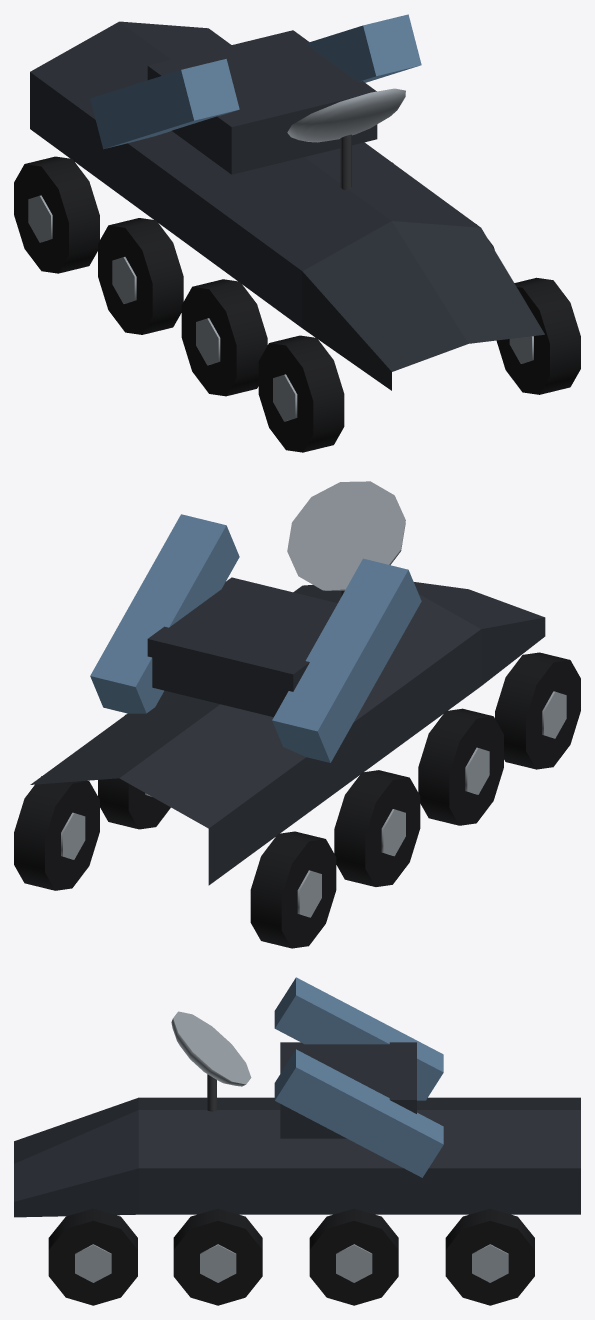
Rendered from veh_ground_aa_wheeled_a09.glb.
3 views of the same model, one above another, from view 1: azimuth 30°, elevation 25°; view 2: azimuth 150°, elevation 25°; view 3: azimuth 270°, elevation 25° (orthographic). The views are drawn at different scales.
Visible parts, largest first — view 1: body, turret, wheel_6, wheel_0, wheel_2, wheel_4, wheel_7, radar; view 2: body, turret, radar, wheel_0, wheel_2, wheel_4, wheel_6, wheel_1, wheel_3; view 3: body, turret, wheel_5, wheel_1, wheel_3, wheel_7, radar.
Boxes of the visible parts, left/top/right/bottom form: body: left=30, top=21, right=544, bottom=390; turret: left=90, top=14, right=421, bottom=174; wheel_6: left=258, top=335, right=344, bottom=452; wheel_0: left=14, top=156, right=99, bottom=273; wheel_2: left=98, top=218, right=183, bottom=334; wheel_4: left=181, top=279, right=267, bottom=396; wheel_7: left=496, top=277, right=580, bottom=394; radar: left=287, top=88, right=405, bottom=190; body: left=30, top=582, right=545, bottom=885; turret: left=90, top=514, right=421, bottom=762; radar: left=287, top=481, right=405, bottom=597; wheel_0: left=250, top=831, right=336, bottom=948; wheel_2: left=334, top=770, right=420, bottom=886; wheel_4: left=418, top=708, right=503, bottom=825; wheel_6: left=495, top=652, right=580, bottom=769; wheel_1: left=14, top=776, right=99, bottom=890; wheel_3: left=98, top=714, right=170, bottom=829; body: left=14, top=1097, right=580, bottom=1217; turret: left=274, top=977, right=443, bottom=1177; wheel_5: left=173, top=1208, right=262, bottom=1305; wheel_1: left=445, top=1208, right=534, bottom=1305; wheel_3: left=309, top=1208, right=398, bottom=1305; wheel_7: left=48, top=1208, right=137, bottom=1305; radar: left=171, top=1011, right=251, bottom=1111.
Size of what is drawn, in the model's own units: 2.98 by 3.04 by 6.65.
